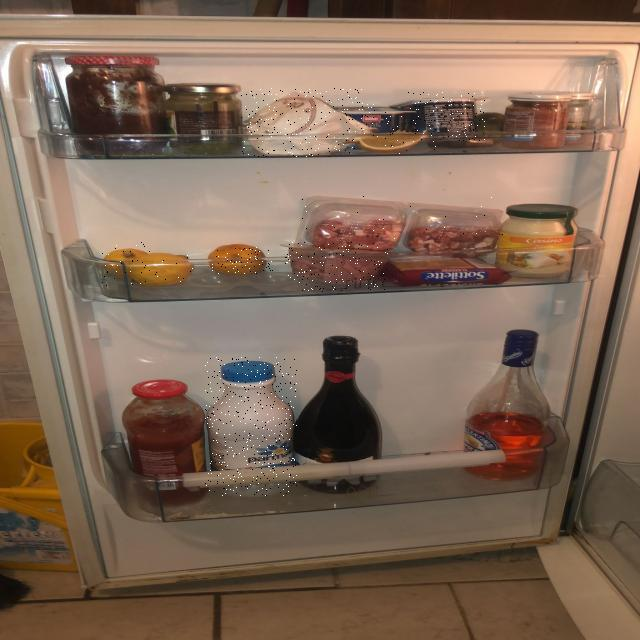bacon: (295, 192, 504, 254), (285, 242, 387, 292)
butter: (241, 88, 364, 157)
lemon: (101, 242, 155, 286), (131, 254, 195, 286), (212, 247, 274, 274), (355, 134, 438, 154)
milk: (205, 356, 298, 496)
yoghurt: (405, 92, 486, 141), (327, 102, 415, 136)
